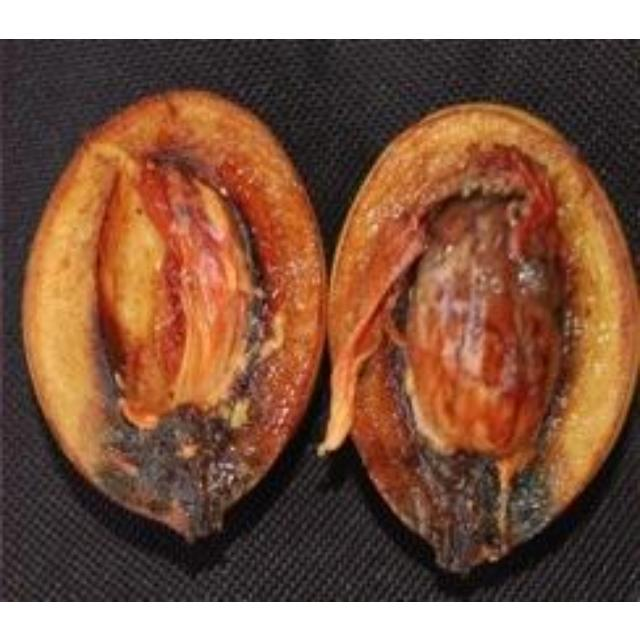damaged: (317, 104, 637, 578), (21, 85, 330, 552)
